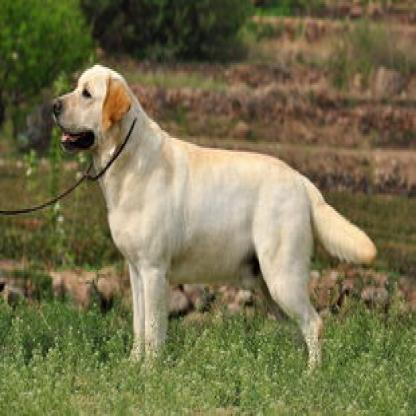Labarador Retriever: (48, 62, 376, 382)
